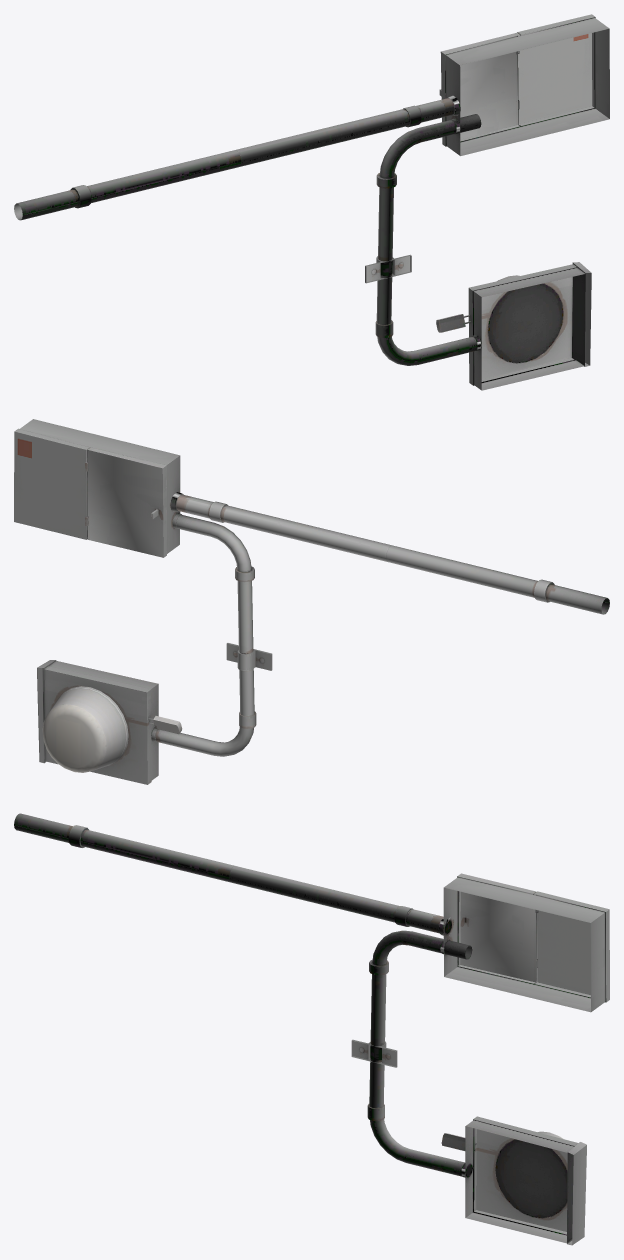
File: props_mining_junctionbox03.glb
The picture shows the model from 3 angles, top to bottom: view 1: azimuth 30°, elevation 25°; view 2: azimuth 150°, elevation 25°; view 3: azimuth 330°, elevation 25°; orthographic projection.
Visible parts, largest first — view 1: models/props_mining/junctionbox03; view 2: models/props_mining/junctionbox03; view 3: models/props_mining/junctionbox03.
Part boxes in pixels (x1,y1,x2,y2): models/props_mining/junctionbox03: (14, 14, 609, 390); models/props_mining/junctionbox03: (14, 419, 609, 784); models/props_mining/junctionbox03: (14, 813, 609, 1245).
Size of the model in its own units: 108 by 58.97 by 11.06.
1 material, 1 textured.
